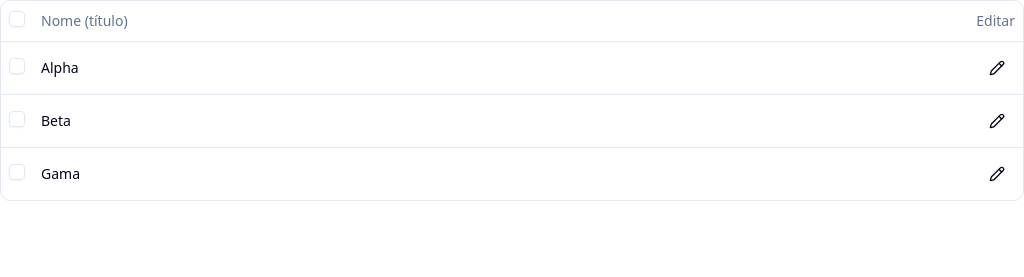
it: seleção em massa em /registros › gating: sem canDeleteRecords não há Excluir; sem permissão nenhuma não há coluna de seleção
The image size is (1024, 277).
Click the checkbox named "Selecionar registro" next to "Alpha" at (17, 66), box [9, 58, 25, 74]
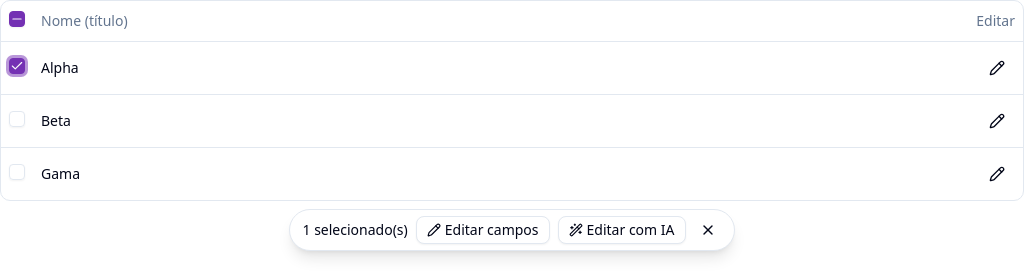
Result: the element named "Ações em massa" is shown at [290, 208, 734, 250]
Result: the button "Editar campos" is shown at [416, 216, 550, 244]
